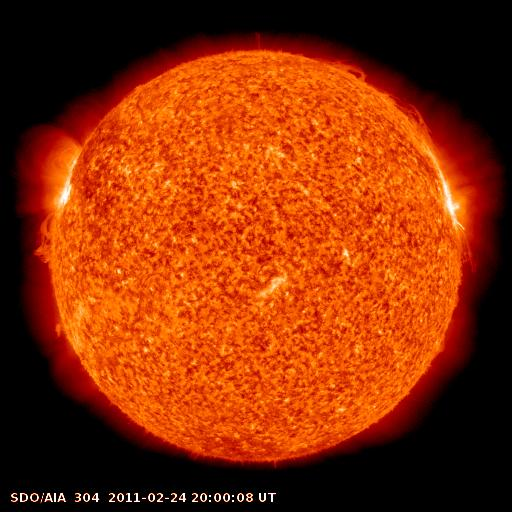prominence: (380, 85, 440, 155), (12, 212, 74, 270), (451, 229, 486, 285), (323, 50, 373, 86), (45, 308, 76, 350)
